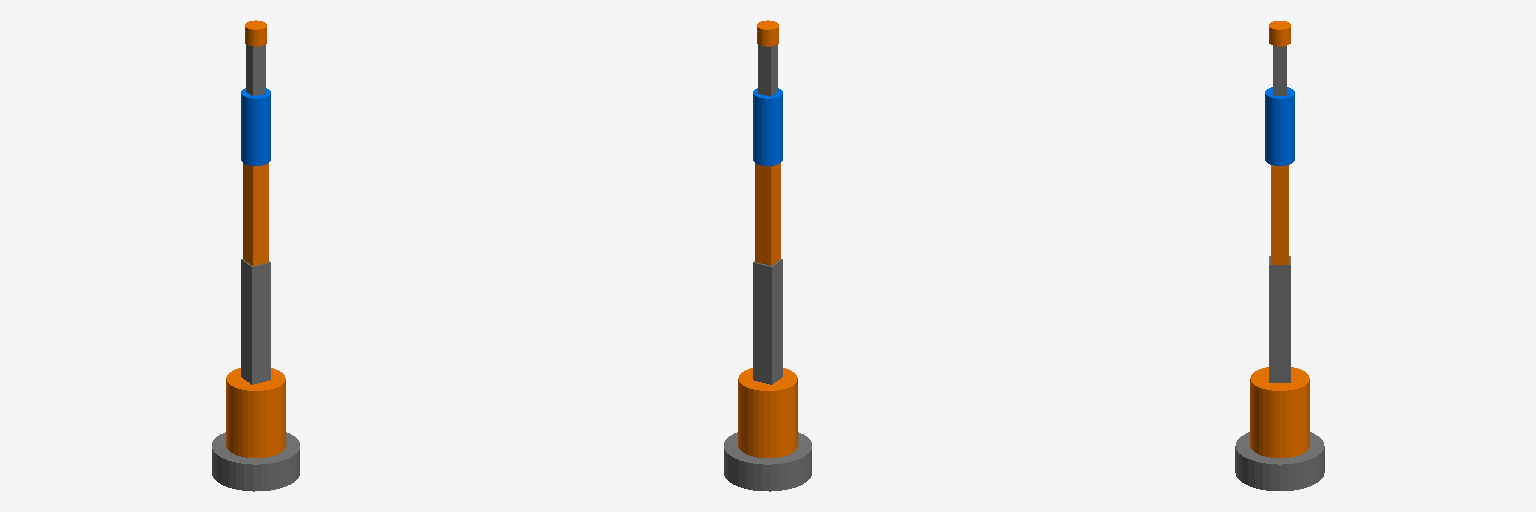
URDF robot description (six_axis_robot):
<?xml version="1.0"?>
<robot name="six_axis_robot">
  <material name="gray"><color rgba="0.5 0.5 0.5 1.0"/></material>
  <material name="orange"><color rgba="1.0 0.5 0.0 1.0"/></material>
  <material name="blue"><color rgba="0.0 0.5 1.0 1.0"/></material>

  <!-- base_link: no <inertial> on purpose (KDL does not support an inertia on the root link) -->
  <link name="base_link">
    <visual><geometry><cylinder radius="0.12" length="0.08"/></geometry><material name="gray"/></visual>
    <collision><geometry><cylinder radius="0.12" length="0.08"/></geometry></collision>
  </link>

  <link name="link_1">
    <visual><geometry><cylinder radius="0.08" length="0.2"/></geometry><material name="orange"/><origin xyz="0 0 0.1"/></visual>
    <collision><geometry><cylinder radius="0.08" length="0.2"/></geometry><origin xyz="0 0 0.1"/></collision>
    <!-- placeholder mass/inertia (solid primitive approximation); replace with real CAD values -->
    <inertial><origin xyz="0 0 0.1"/><mass value="2.0"/><inertia ixx="0.009867" ixy="0" ixz="0" iyy="0.009867" iyz="0" izz="0.006400"/></inertial>
  </link>
  <joint name="joint_1" type="revolute">
    <parent link="base_link"/><child link="link_1"/><origin xyz="0 0 0.04"/><axis xyz="0 0 1"/>
    <limit lower="-3.14" upper="3.14" effort="100" velocity="1.0"/>
  </joint>

  <link name="link_2">
    <visual><geometry><box size="0.06 0.06 0.35"/></geometry><material name="gray"/><origin xyz="0 0 0.175"/></visual>
    <collision><geometry><box size="0.06 0.06 0.35"/></geometry><origin xyz="0 0 0.175"/></collision>
    <!-- placeholder mass/inertia (solid primitive approximation); replace with real CAD values -->
    <inertial><origin xyz="0 0 0.175"/><mass value="1.5"/><inertia ixx="0.015762" ixy="0" ixz="0" iyy="0.015762" iyz="0" izz="0.000900"/></inertial>
  </link>
  <joint name="joint_2" type="revolute">
    <parent link="link_1"/><child link="link_2"/><origin xyz="0 0 0.2"/><axis xyz="0 1 0"/>
    <limit lower="-1.57" upper="1.57" effort="100" velocity="1.0"/>
  </joint>

  <link name="link_3">
    <visual><geometry><box size="0.05 0.05 0.3"/></geometry><material name="orange"/><origin xyz="0 0 0.15"/></visual>
    <collision><geometry><box size="0.05 0.05 0.3"/></geometry><origin xyz="0 0 0.15"/></collision>
    <!-- placeholder mass/inertia (solid primitive approximation); replace with real CAD values -->
    <inertial><origin xyz="0 0 0.15"/><mass value="1.0"/><inertia ixx="0.007708" ixy="0" ixz="0" iyy="0.007708" iyz="0" izz="0.000417"/></inertial>
  </link>
  <joint name="joint_3" type="revolute">
    <parent link="link_2"/><child link="link_3"/><origin xyz="0 0 0.35"/><axis xyz="0 1 0"/>
    <limit lower="-2.0" upper="2.0" effort="100" velocity="1.0"/>
  </joint>

  <link name="link_4">
    <visual><geometry><cylinder radius="0.04" length="0.2"/></geometry><material name="blue"/><origin xyz="0 0 0.1"/></visual>
    <collision><geometry><cylinder radius="0.04" length="0.2"/></geometry><origin xyz="0 0 0.1"/></collision>
    <!-- placeholder mass/inertia (solid primitive approximation); replace with real CAD values -->
    <inertial><origin xyz="0 0 0.1"/><mass value="0.6"/><inertia ixx="0.002240" ixy="0" ixz="0" iyy="0.002240" iyz="0" izz="0.000480"/></inertial>
  </link>
  <joint name="joint_4" type="revolute">
    <parent link="link_3"/><child link="link_4"/><origin xyz="0 0 0.3"/><axis xyz="0 0 1"/>
    <limit lower="-3.14" upper="3.14" effort="100" velocity="1.0"/>
  </joint>

  <link name="link_5">
    <visual><geometry><box size="0.04 0.04 0.15"/></geometry><material name="gray"/><origin xyz="0 0 0.075"/></visual>
    <collision><geometry><box size="0.04 0.04 0.15"/></geometry><origin xyz="0 0 0.075"/></collision>
    <!-- placeholder mass/inertia (solid primitive approximation); replace with real CAD values -->
    <inertial><origin xyz="0 0 0.075"/><mass value="0.4"/><inertia ixx="0.000803" ixy="0" ixz="0" iyy="0.000803" iyz="0" izz="0.000107"/></inertial>
  </link>
  <joint name="joint_5" type="revolute">
    <parent link="link_4"/><child link="link_5"/><origin xyz="0 0 0.2"/><axis xyz="0 1 0"/>
    <limit lower="-1.57" upper="1.57" effort="100" velocity="1.0"/>
  </joint>

  <link name="link_6">
    <visual><geometry><cylinder radius="0.03" length="0.05"/></geometry><material name="orange"/><origin xyz="0 0 0.025"/></visual>
    <collision><geometry><cylinder radius="0.03" length="0.05"/></geometry><origin xyz="0 0 0.025"/></collision>
    <!-- placeholder mass/inertia (solid primitive approximation); replace with real CAD values -->
    <inertial><origin xyz="0 0 0.025"/><mass value="0.2"/><inertia ixx="0.000087" ixy="0" ixz="0" iyy="0.000087" iyz="0" izz="0.000090"/></inertial>
  </link>
  <joint name="joint_6" type="revolute">
    <parent link="link_5"/><child link="link_6"/><origin xyz="0 0 0.15"/><axis xyz="0 0 1"/>
    <limit lower="-3.14" upper="3.14" effort="100" velocity="1.0"/>
  </joint>
</robot>

--- Render facts (derived) ---
Views: 3 orthographic renders of the robot side by side, from view 1: azimuth 30°, elevation 25°; view 2: azimuth 150°, elevation 25°; view 3: azimuth 270°, elevation 25°.
Model six_axis_robot with 7 links and 6 joints (6 revolute), rooted at base_link, posed all joints at 0.
Visible links, largest first — view 1: link_1, link_2, base_link, link_3, link_4, link_5, link_6; view 2: link_1, link_2, base_link, link_3, link_4, link_5, link_6; view 3: link_1, base_link, link_2, link_4, link_3, link_5, link_6.
Boxes of the visible links, box(x1,y1,x2,y2) form: link_1: box(226, 368, 285, 457); link_2: box(241, 259, 270, 384); base_link: box(212, 432, 299, 491); link_3: box(243, 163, 268, 265); link_4: box(241, 88, 270, 165); link_5: box(246, 44, 265, 96); link_6: box(245, 20, 266, 46); link_1: box(738, 368, 797, 457); link_2: box(753, 259, 782, 384); base_link: box(724, 432, 811, 491); link_3: box(755, 163, 780, 265); link_4: box(753, 88, 782, 165); link_5: box(758, 44, 777, 96); link_6: box(757, 20, 778, 46); link_1: box(1250, 367, 1309, 457); base_link: box(1235, 432, 1324, 490); link_2: box(1269, 256, 1290, 382); link_4: box(1265, 87, 1294, 165); link_3: box(1271, 165, 1288, 264); link_5: box(1273, 46, 1286, 95); link_6: box(1269, 21, 1290, 46).
Bounding box of the posed robot: 0.24 × 0.24 × 1.33 m (x, y, z).
Geometry: primitives only (box / cylinder / sphere), no mesh files.
